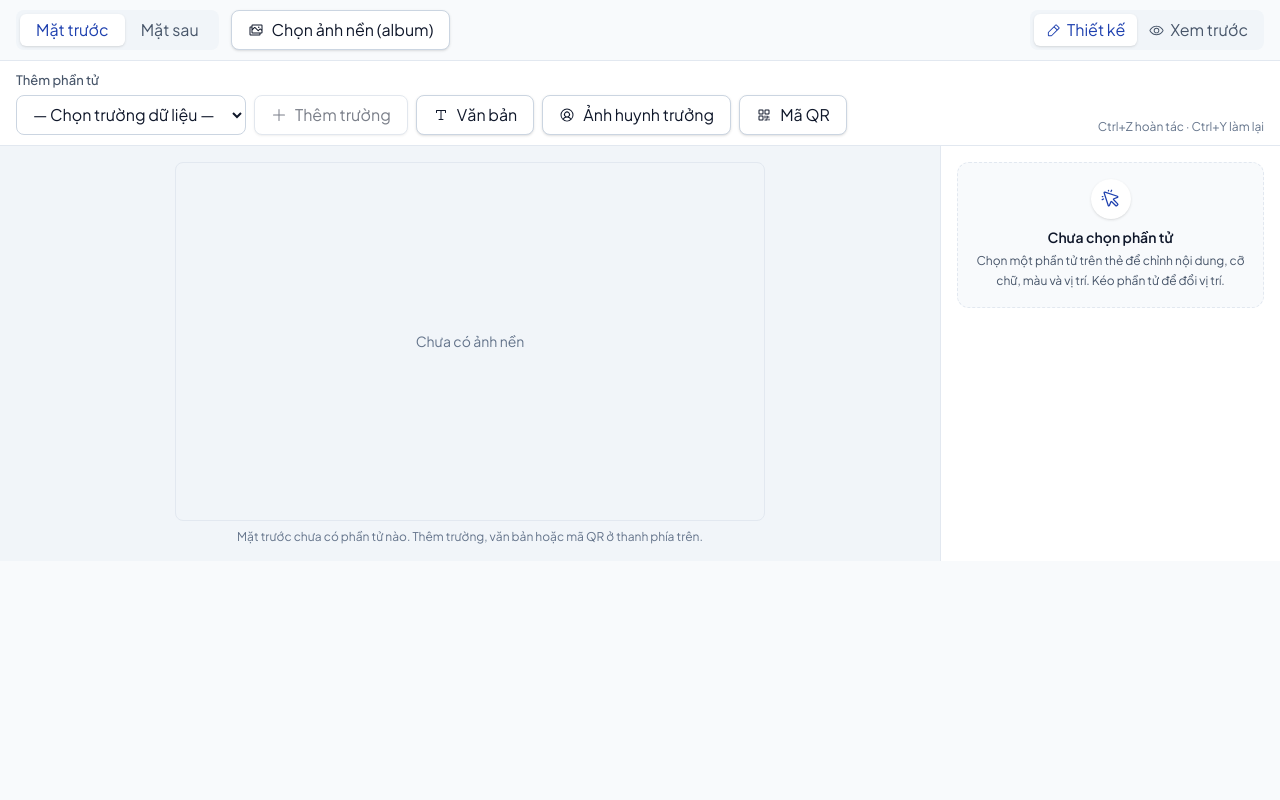
Test: BadgeEditor › picks a background from the album for the active side
Click the tab "Mặt sau": (170, 30) [125,14,215,46]
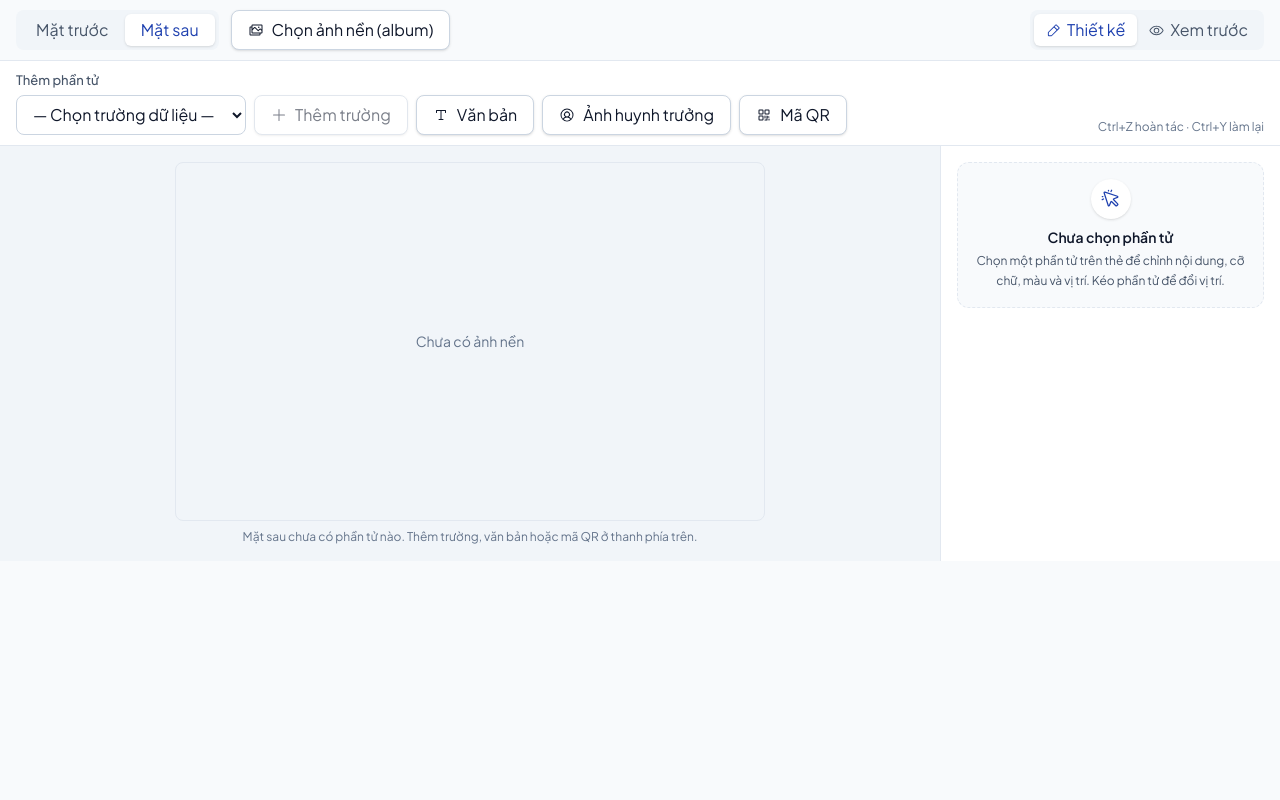
Click the button "Chọn ảnh nền (album)": (340, 30) [231,10,450,50]
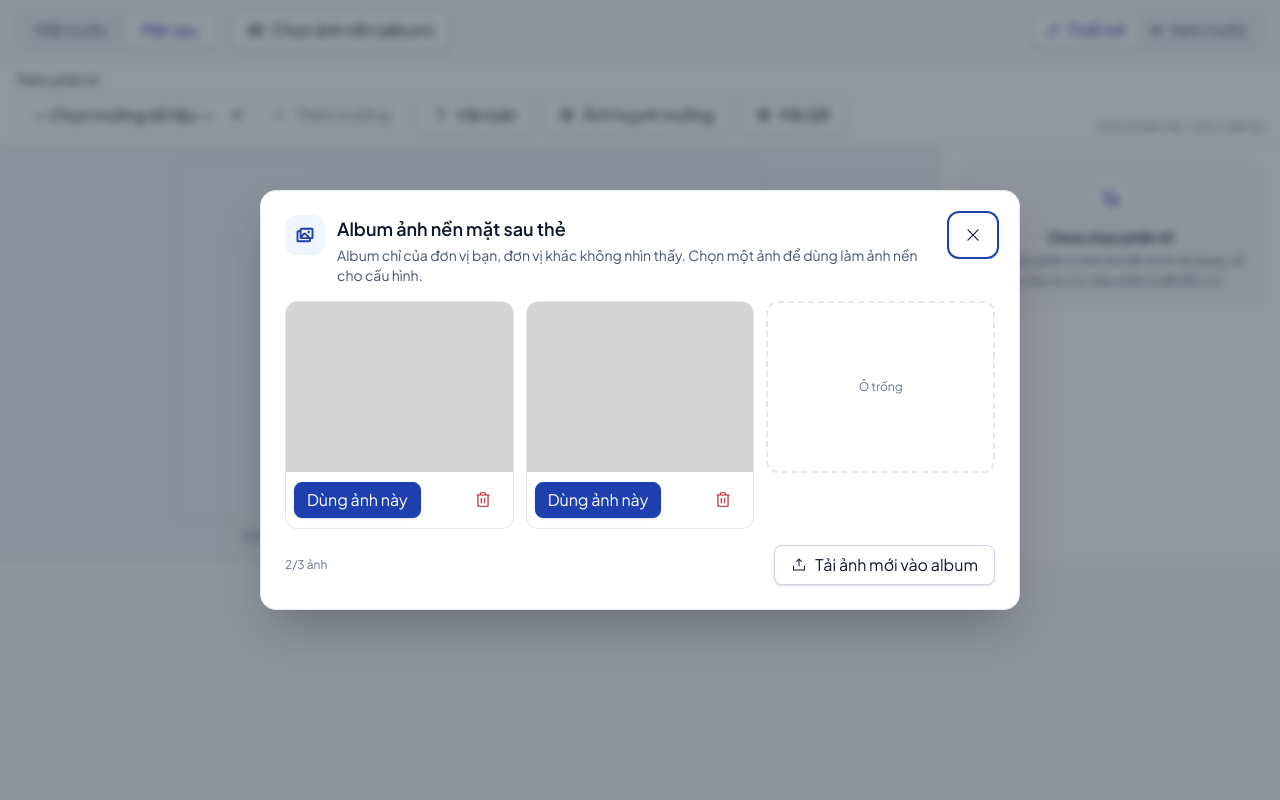
Result: the heading "Album ảnh nền mặt sau thẻ" is shown at [337,217,566,240]
Result: the text "Album chỉ của đơn vị bạn, đơn vị khác không nhìn thấy." is shown at [337,246,918,284]
Result: the number of buttons "Dùng ảnh này" is 2
Click the 2nd button "Dùng ảnh này": (598, 500) [535,482,661,518]
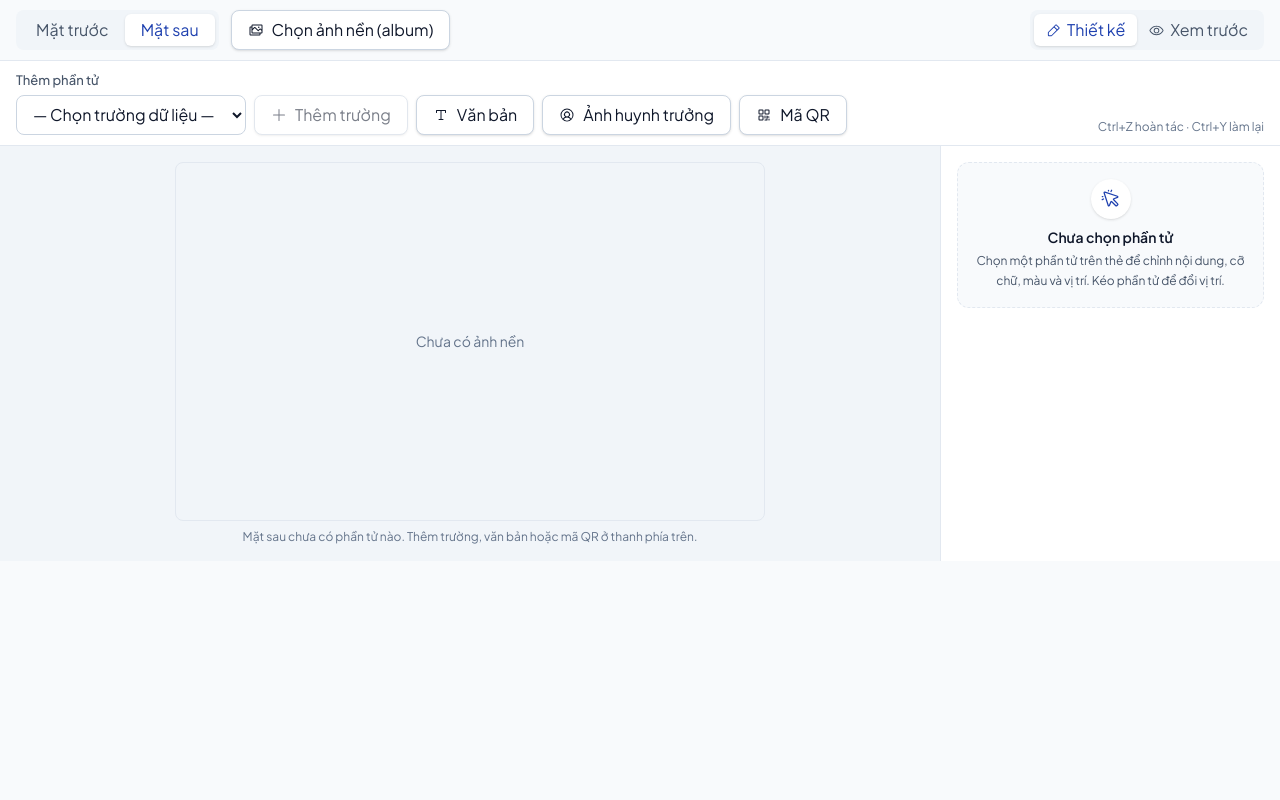
Result: the heading "Album ảnh nền mặt sau thẻ" is gone
